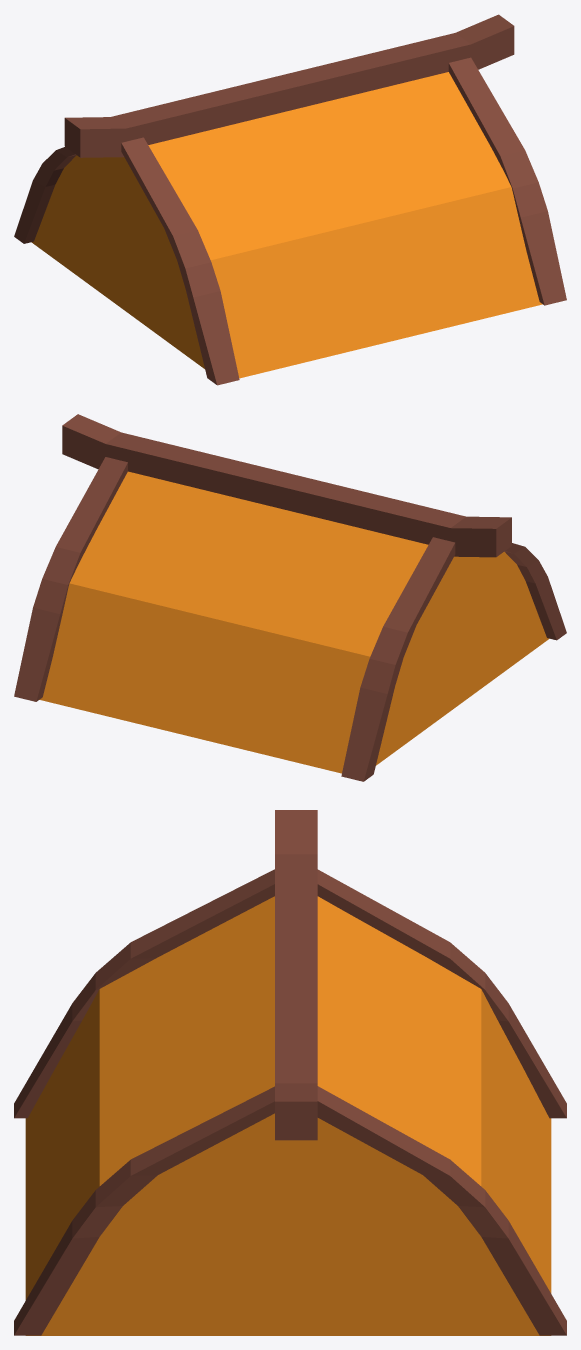
The model's file is OldTown_Roof1_gltf.gltf.
3 renders of one model, top to bottom at view 1: azimuth 30°, elevation 25°; view 2: azimuth 150°, elevation 25°; view 3: azimuth 270°, elevation 25°, orthographic. The views are drawn at different scales.
Parts seen in each view (by area): view 1: roof, housesupportbeams (×4); view 2: roof, housesupportbeams (×4); view 3: roof, housesupportbeams (×5).
Part boxes in pixels (x1,y1,x2,y2): roof: (31,72,542,378); housesupportbeams (×4): (14,14,566,385); roof: (39,471,548,773); housesupportbeams (×4): (14,414,566,781); roof: (25,896,551,1335); housesupportbeams (×5): (14,810,566,1335).
Size of the model in its own units: 10.94 by 4.78 by 8.88.
2 materials, 2 textured.
